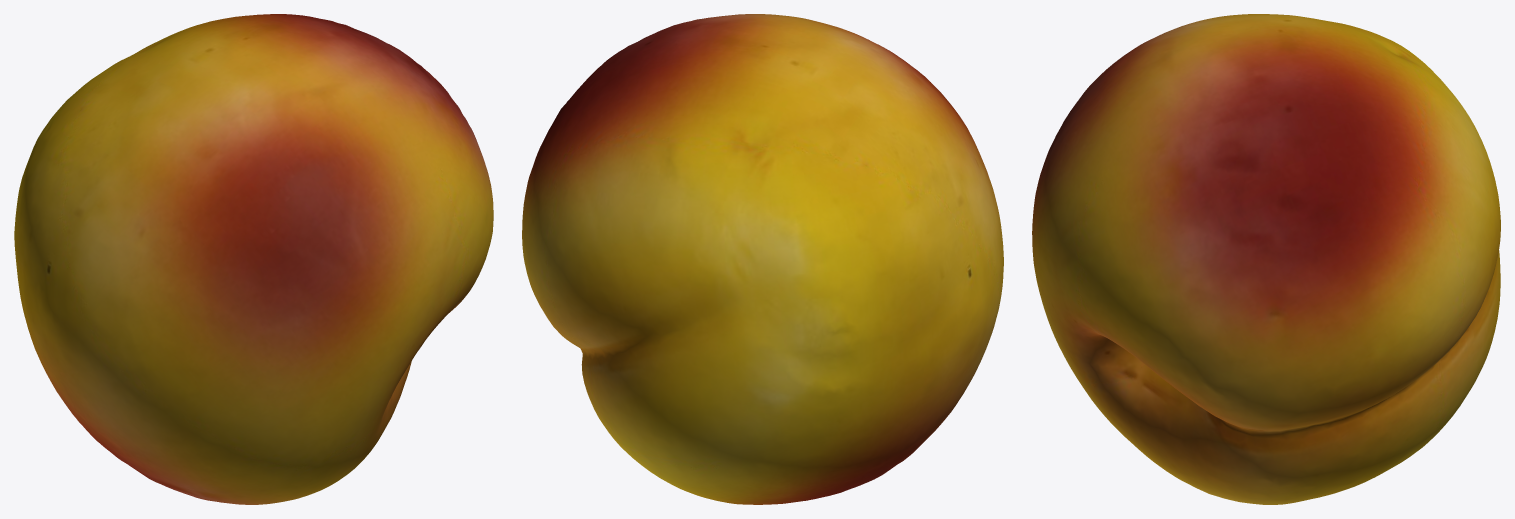
Rendered from peach.obj.
The picture shows the model from 3 angles, left to right: view 1: azimuth 30°, elevation 25°; view 2: azimuth 150°, elevation 25°; view 3: azimuth 270°, elevation 25°; orthographic projection. The views are drawn at different scales.
Bounding box in the file's own units: 0.0621 × 0.0626 × 0.0586.
1 material, 1 textured.
